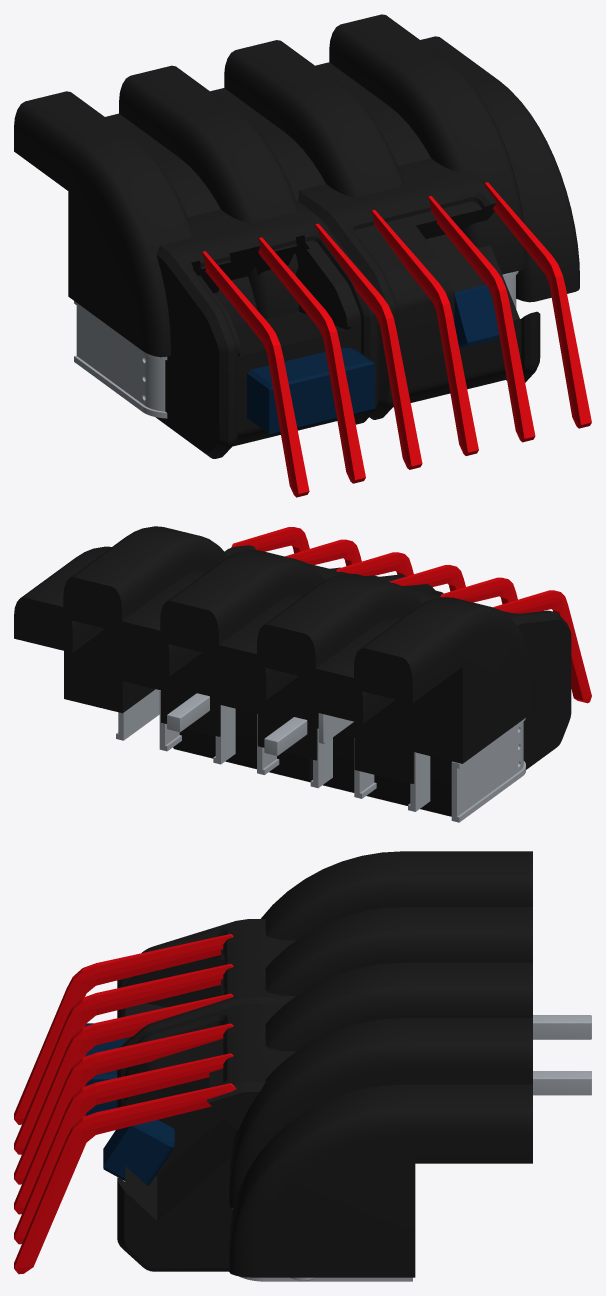
Rendered from machine_a.fbx.
3 renders of one model, top to bottom at view 1: azimuth 30°, elevation 25°; view 2: azimuth 150°, elevation 25°; view 3: azimuth 270°, elevation 25°, orthographic. The views are drawn at different scales.
Visible parts, largest first — view 1: machine_a.002; view 2: machine_a.002; view 3: machine_a.002.
Part boxes in pixels (x1,y1,x2,y2): machine_a.002: (14,14,591,497); machine_a.002: (14,526,591,822); machine_a.002: (14,851,591,1281).
Bounding box in the file's own units: 718 × 367 × 767.
